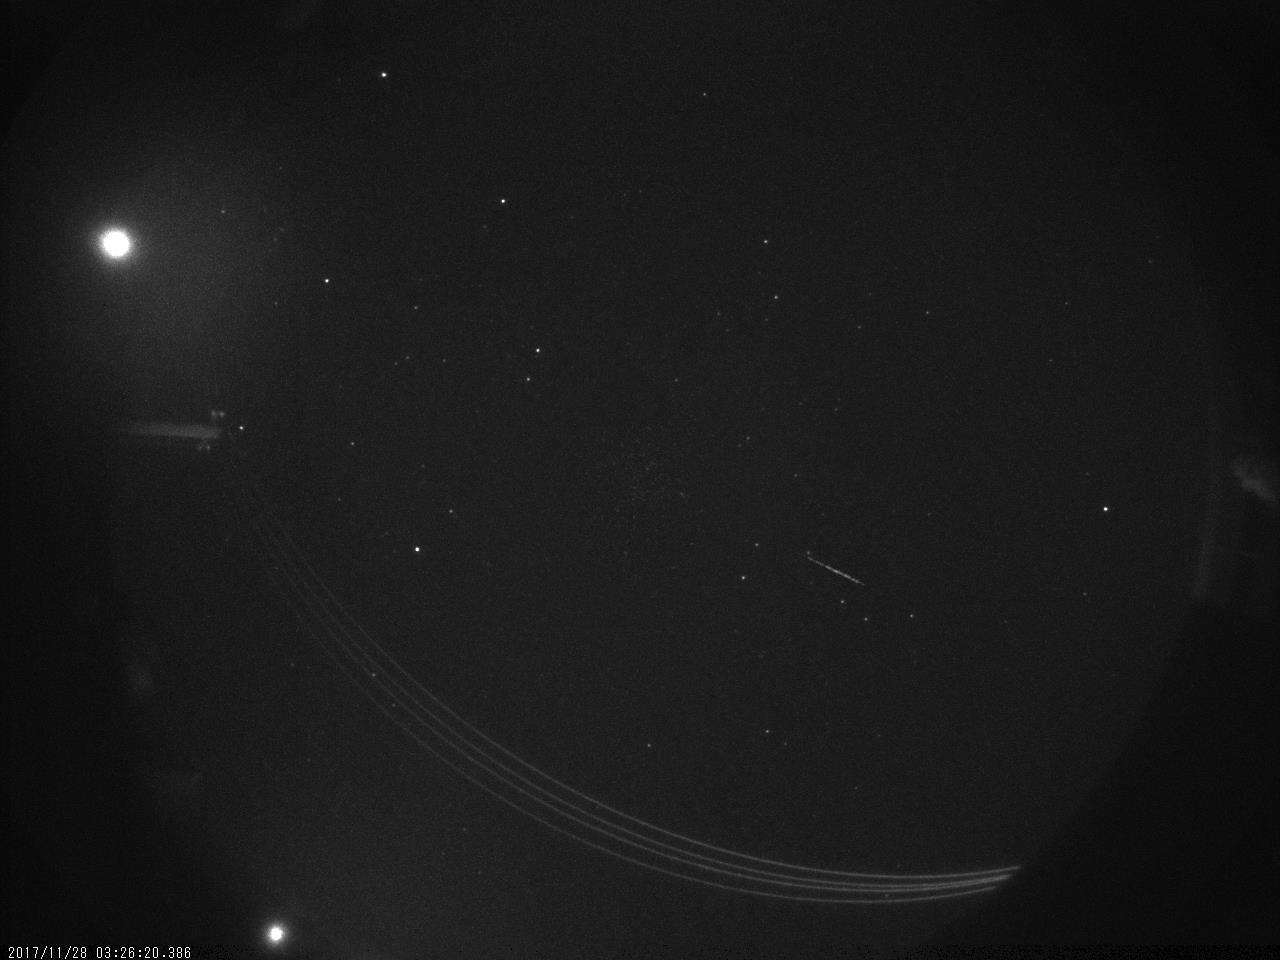Meteor: (798, 549, 869, 589)
